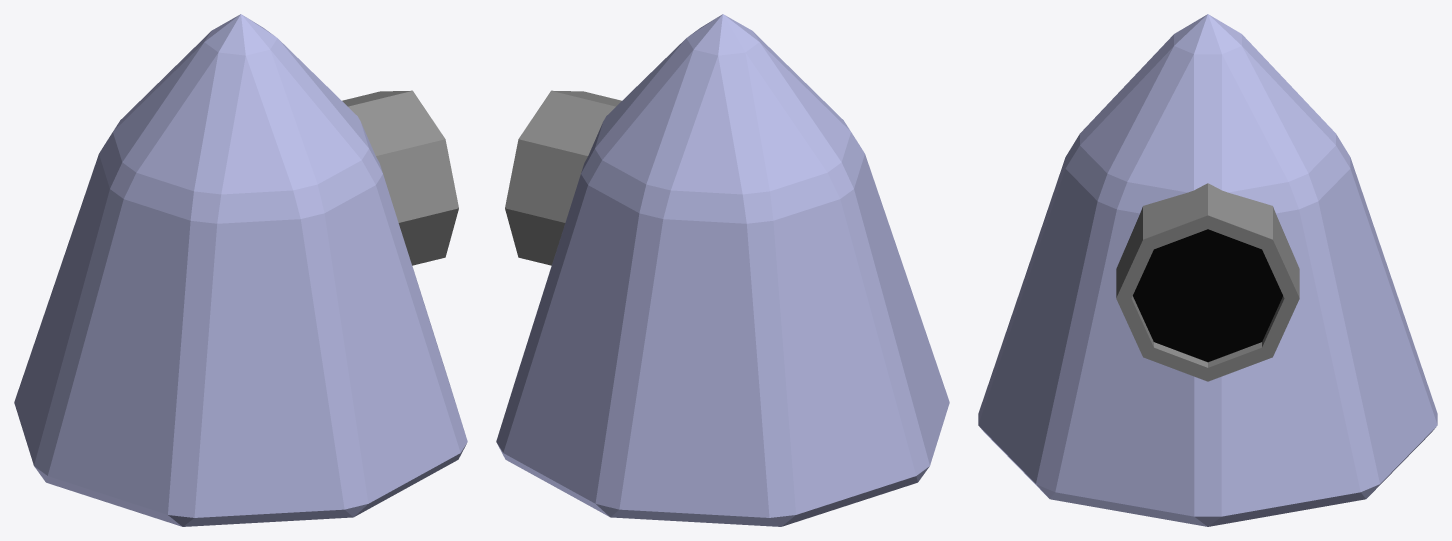
Rendered from cockpitwip.glb.
3 views of the same model, side by side, from view 1: azimuth 30°, elevation 25°; view 2: azimuth 150°, elevation 25°; view 3: azimuth 270°, elevation 25° (orthographic).
Parts seen in each view (by area): view 1: Cockpit, Window; view 2: Cockpit, Window; view 3: Cockpit, Window.
Part boxes in pixels (x1,y1,x2,y2): Cockpit: (14, 14, 467, 526); Window: (342, 90, 458, 265); Cockpit: (496, 14, 949, 526); Window: (505, 90, 621, 265); Cockpit: (978, 14, 1437, 526); Window: (1116, 183, 1299, 381).
Bounding box in the file's own units: 5 × 5.03 × 5.
